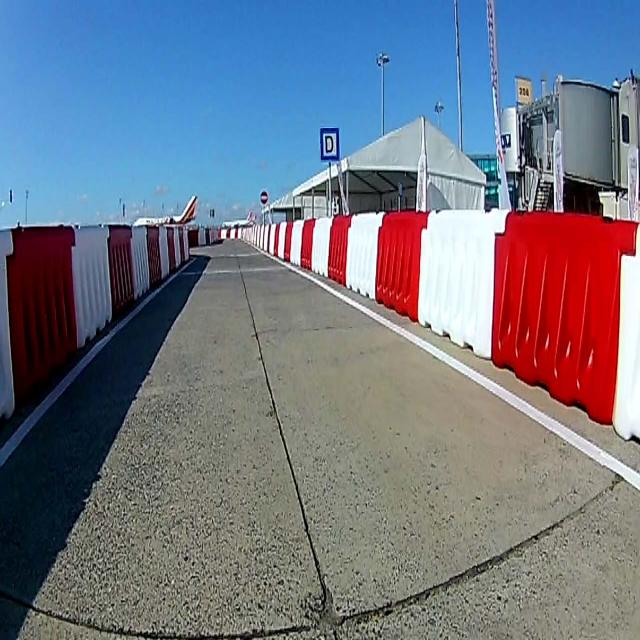durak: (318, 125, 340, 164)
girisyok: (260, 188, 268, 204)
